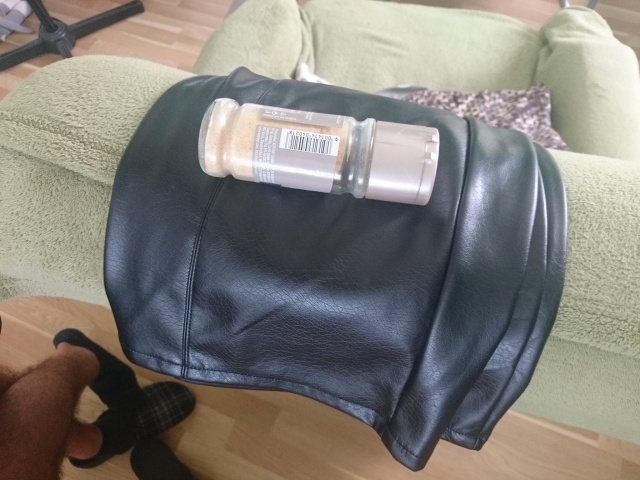Kotanyi Garlic Granules 70g: (194, 95, 443, 208)
